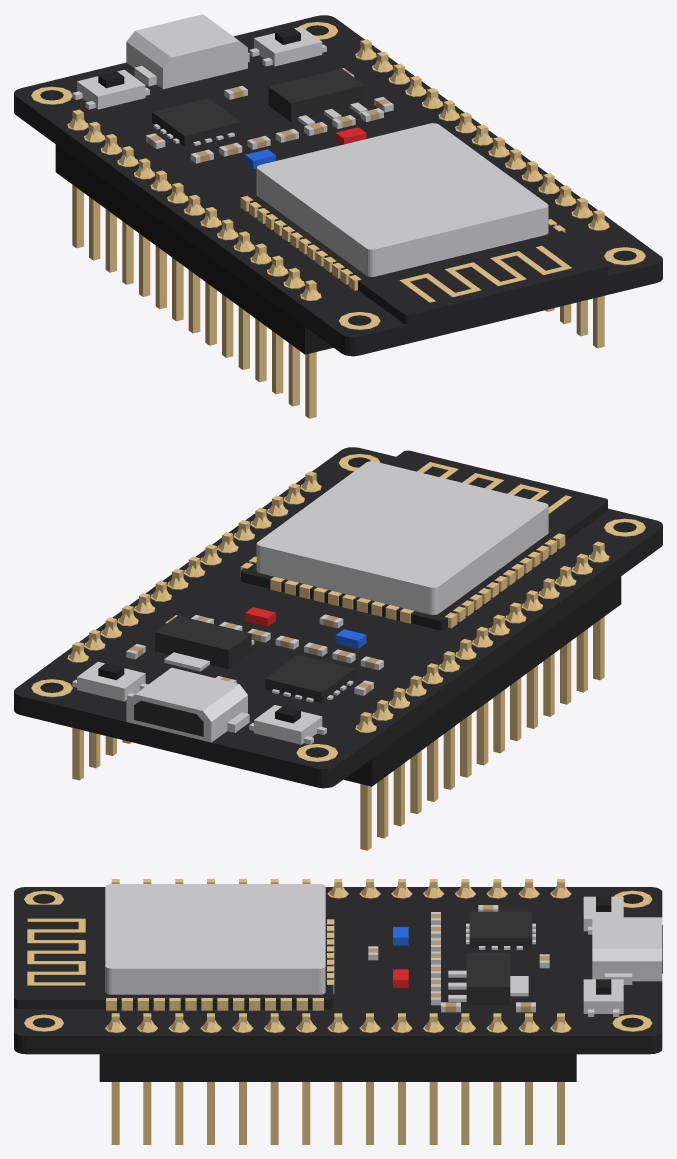
File: esp32.glb
3 views of the same model, one above another, from view 1: azimuth 30°, elevation 25°; view 2: azimuth 150°, elevation 25°; view 3: azimuth 270°, elevation 25° (orthographic). The views are drawn at different scales.
Visible parts, largest first — view 1: esp32_body, esp32_module_shield, esp32_module, esp32_header_l_spacer, esp32_usb, esp32_regulator, esp32, esp32_usb_uart, esp32_module_pads, esp32_antenna, esp32_btn_boot, esp32_btn_en (+18 smaller); view 2: esp32_body, esp32_module_shield, esp32_header_l_spacer, esp32_module, esp32_usb, esp32_module_pads, esp32_regulator, esp32, esp32_usb_uart, esp32_btn_boot, esp32_btn_en, esp32_usb_port (+18 smaller); view 3: esp32_body, esp32_module_shield, esp32_header_r_spacer, esp32_module, esp32_usb, esp32_module_pads, esp32, esp32_regulator, esp32_usb_uart, esp32_antenna, esp32_btn_en, esp32_passive_ends (+17 smaller).
Part boxes in pixels (x1,y1,x2,y2): esp32_body: [14, 15, 662, 356]; esp32_module_shield: [256, 123, 548, 276]; esp32_module: [241, 189, 607, 324]; esp32_header_l_spacer: [55, 144, 333, 354]; esp32_usb: [126, 14, 249, 89]; esp32_regulator: [268, 68, 364, 122]; esp32: [31, 22, 645, 329]; esp32_usb_uart: [152, 98, 241, 146]; esp32_module_pads: [240, 195, 565, 290]; esp32_antenna: [399, 245, 571, 302]; esp32_btn_boot: [72, 69, 149, 109]; esp32_btn_en: [249, 26, 326, 66]; esp32_body: [14, 447, 662, 788]; esp32_module_shield: [256, 461, 548, 614]; esp32_header_l_spacer: [343, 576, 621, 786]; esp32_module: [241, 450, 607, 630]; esp32_usb: [126, 667, 249, 742]; esp32_module_pads: [240, 533, 565, 628]; esp32_regulator: [155, 615, 251, 668]; esp32: [31, 454, 645, 838]; esp32_usb_uart: [265, 655, 354, 702]; esp32_btn_boot: [249, 705, 326, 744]; esp32_btn_en: [72, 662, 147, 701]; esp32_usb_port: [134, 700, 203, 736]; esp32_body: [14, 887, 662, 1054]; esp32_module_shield: [105, 884, 325, 994]; esp32_header_r_spacer: [99, 1054, 576, 1081]; esp32_module: [14, 904, 333, 1008]; esp32_usb: [592, 917, 662, 984]; esp32_module_pads: [106, 919, 334, 1010]; esp32: [24, 879, 652, 1144]; esp32_regulator: [466, 952, 510, 1004]; esp32_usb_uart: [469, 911, 532, 948]; esp32_antenna: [27, 918, 85, 985]; esp32_btn_en: [583, 979, 623, 1016]; esp32_passive_ends: [368, 905, 549, 1012].
Bounding box in the file's own units: 0.0282 × 0.0132 × 0.0518.
